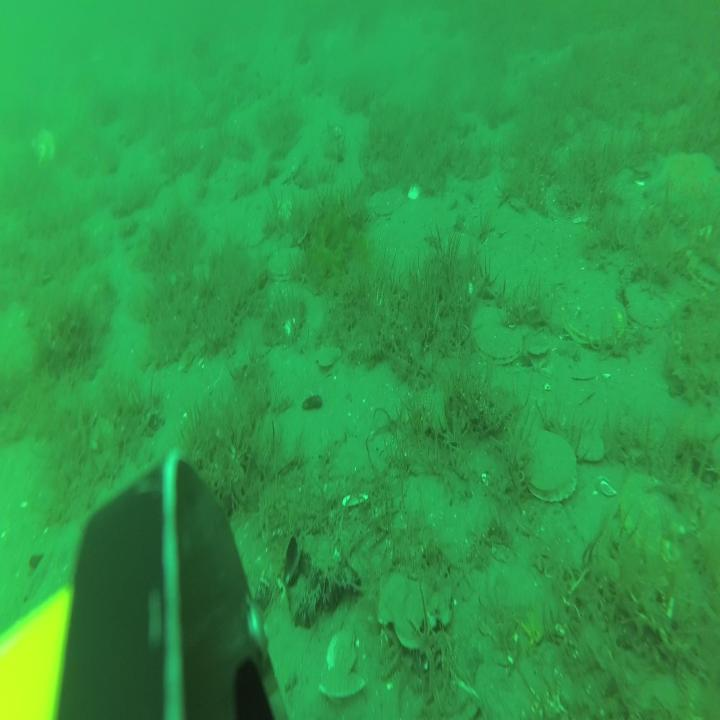scallop: (622, 470, 683, 558), (524, 428, 578, 504), (317, 628, 365, 699), (473, 303, 521, 364), (567, 296, 625, 346), (626, 284, 672, 326), (371, 185, 404, 220), (688, 257, 720, 290), (270, 246, 303, 278), (30, 128, 55, 168), (580, 434, 604, 465), (318, 344, 340, 369), (528, 340, 550, 364)
starfish: (644, 153, 720, 224)
